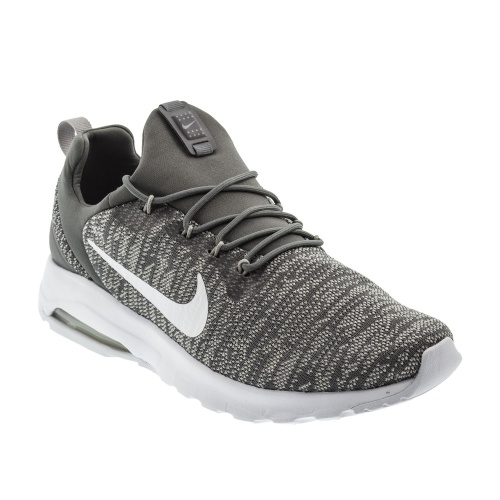nike: (85, 237, 211, 343)
